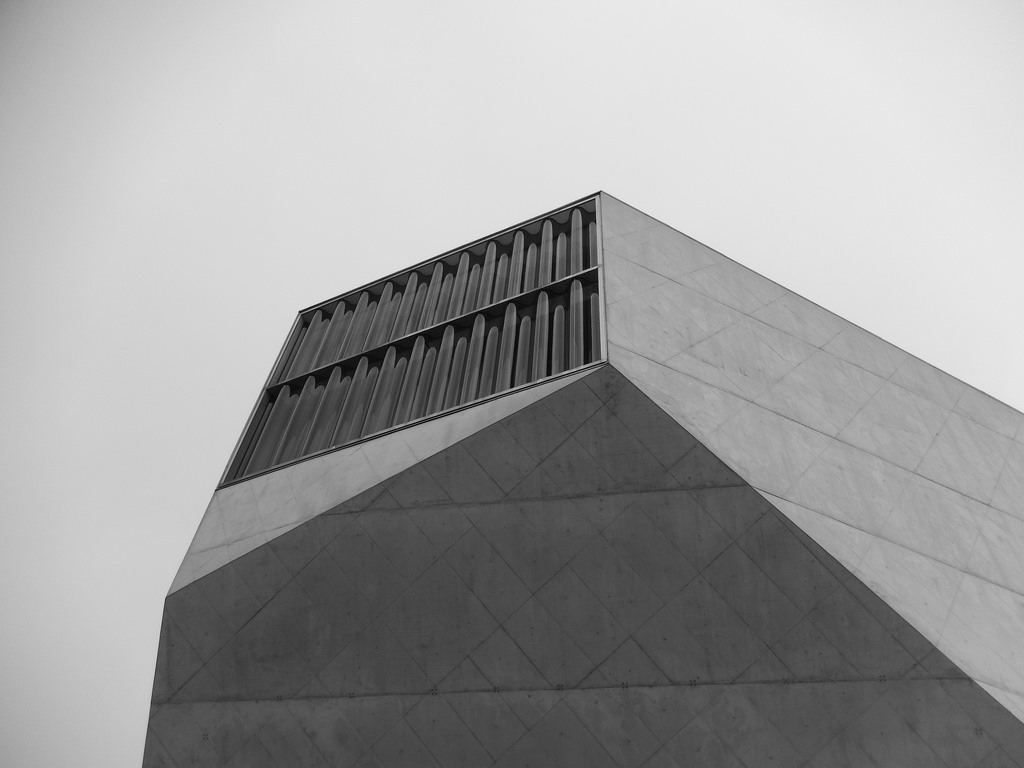musica: (139, 186, 1023, 767)
